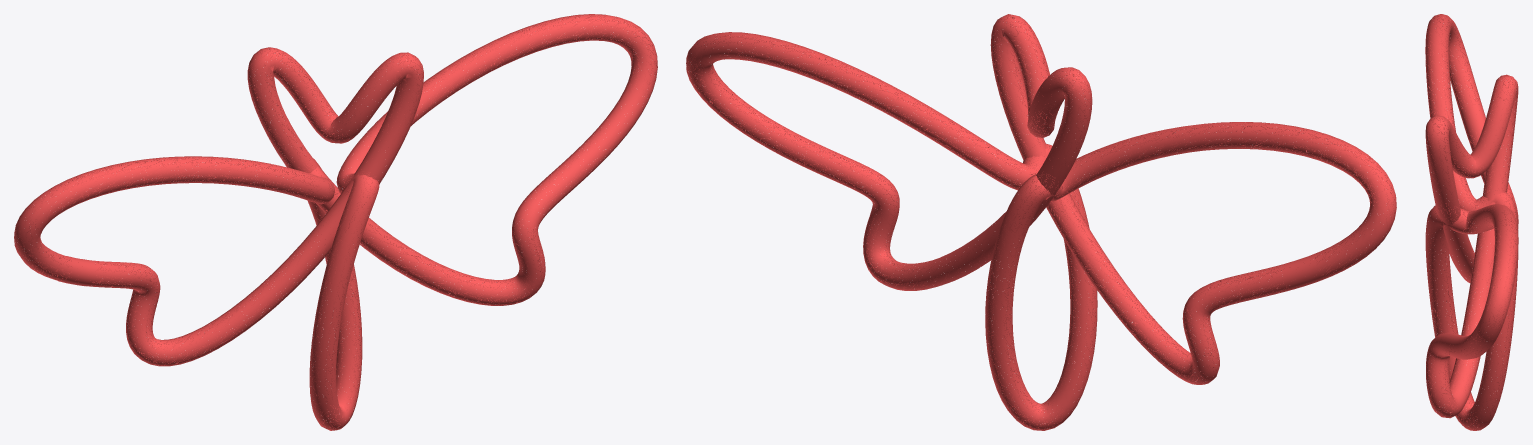
The model's file is butterfly2.glb.
3 renders of one model, left to right at view 1: azimuth 30°, elevation 25°; view 2: azimuth 150°, elevation 25°; view 3: azimuth 270°, elevation 25°, orthographic. The views are drawn at different scales.
Visible parts, largest first — view 1: MyParametricCurve; view 2: MyParametricCurve; view 3: MyParametricCurve.
Part boxes in pixels (bbox=[...]): MyParametricCurve: bbox=[14, 14, 657, 430]; MyParametricCurve: bbox=[686, 14, 1396, 430]; MyParametricCurve: bbox=[1425, 14, 1518, 430].
Bounding box in the file's own units: 9.7 × 5.27 × 1.34.
